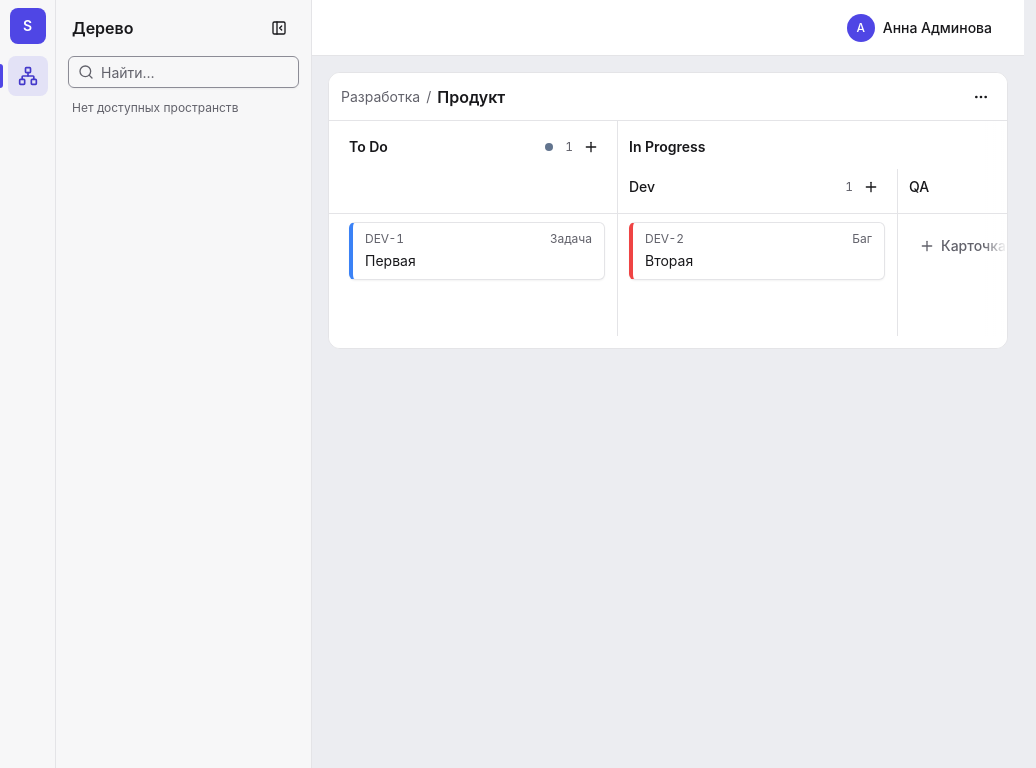
Доска: архив карточек и блокировка на фасаде › редактору в меню доски — только архив карточек, без структуры
The width and height of the screenshot is (1036, 768).
Click the button named "Действия с доской «".
click(981, 96)  # box [967, 82, 995, 110]
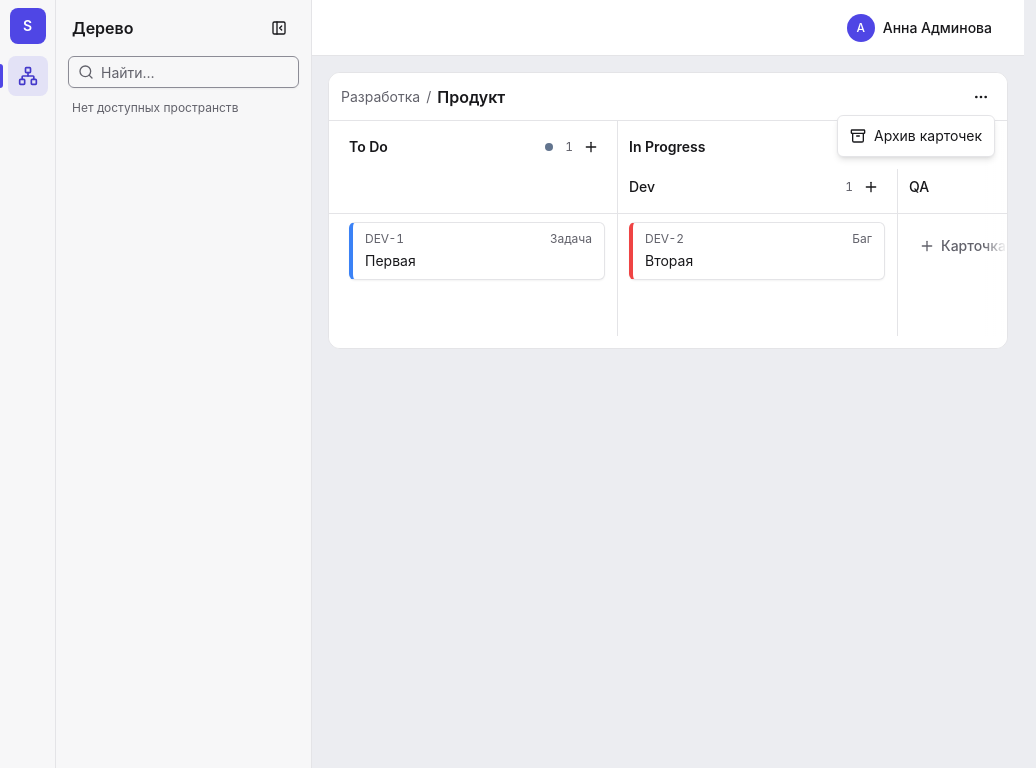
Result: the menu item "Архив карточек" is shown at [850, 127, 982, 144]
